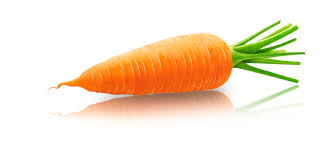carrot: (54, 25, 242, 111)
